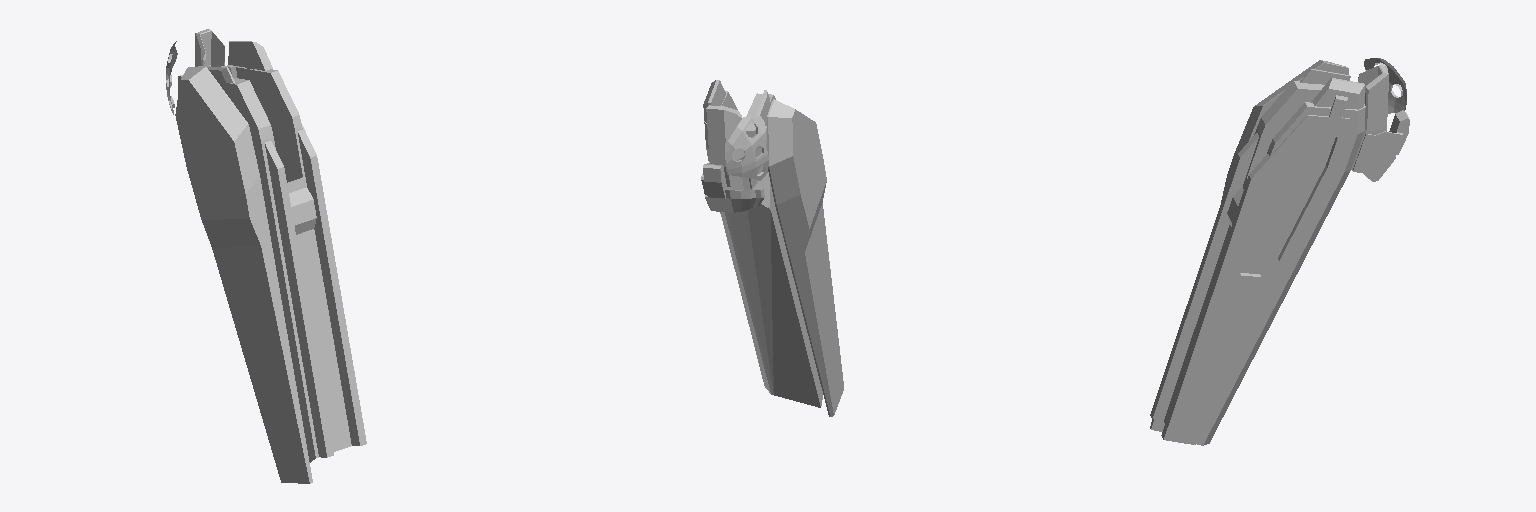
Rendered from rightLowerArm.obj.
3 renders of one model, left to right at view 1: azimuth 30°, elevation 25°; view 2: azimuth 150°, elevation 25°; view 3: azimuth 270°, elevation 25°, orthographic.
Parts seen in each view (by area): view 1: rightLowerArm1; view 2: rightLowerArm1; view 3: rightLowerArm1.
Boxes of the visible parts, box(x1,y1,x2,y2) form: rightLowerArm1: box(166, 29, 366, 483); rightLowerArm1: box(701, 80, 843, 416); rightLowerArm1: box(1150, 58, 1409, 445).
Size of the model in its own units: 0.4945 by 1.69 by 1.06.